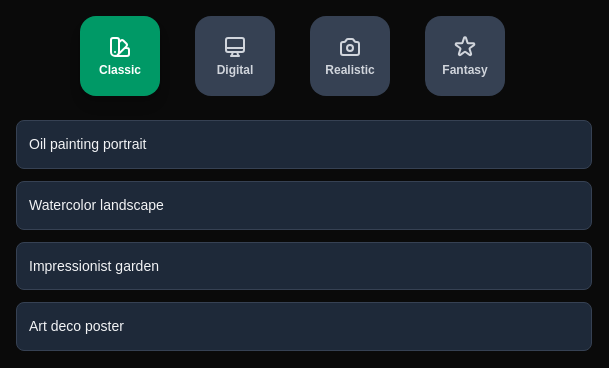
it: ImageGenerationStarters › switches categories when category button is clicked
The image size is (609, 368).
Click on second category (Digital)
Click the button with aria-label "Select Digital category" at x=235, y=56, box [195, 16, 275, 96]
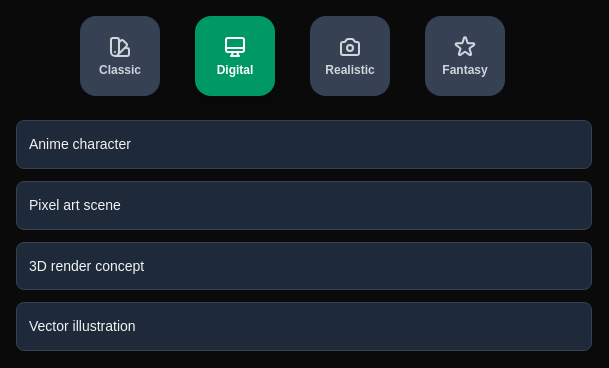
Result: the text "Anime character" is shown at [29, 136, 131, 152]
Result: the text "Pixel art scene" is shown at [29, 197, 121, 213]
Result: the text "3D render concept" is shown at [29, 258, 144, 274]
